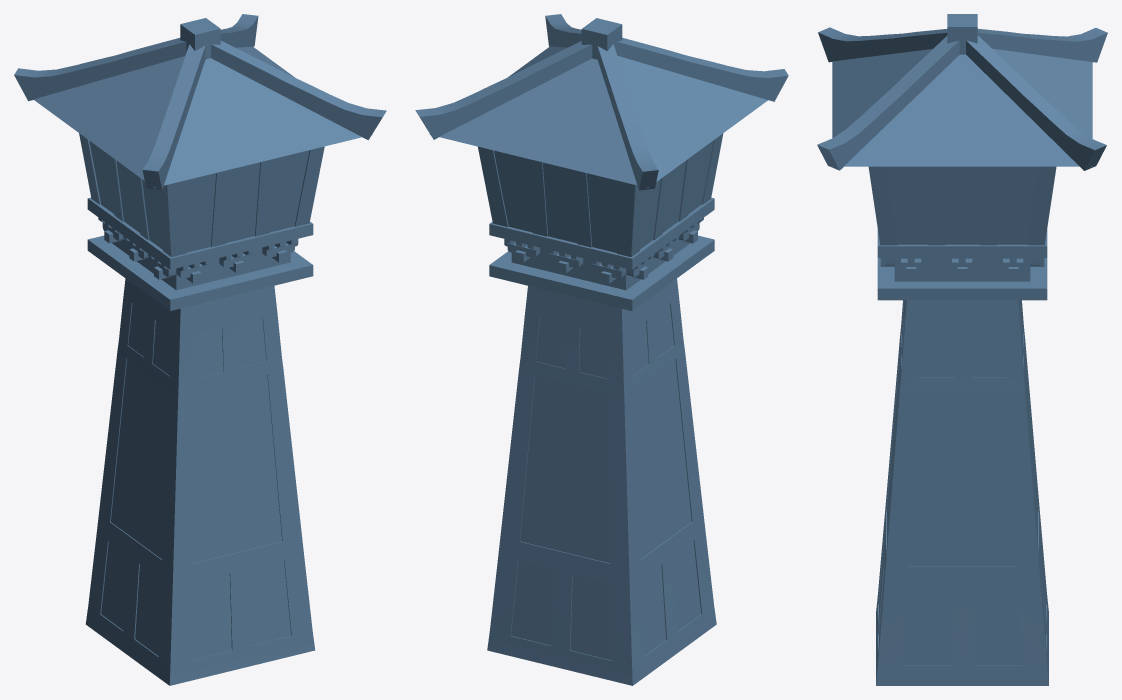
Rendered from aaaaaa.fbx.
3 renders of one model, left to right at view 1: azimuth 30°, elevation 25°; view 2: azimuth 150°, elevation 25°; view 3: azimuth 270°, elevation 25°, orthographic. The views are drawn at different scales.
Parts seen in each view (by area): view 1: pCube19; view 2: pCube19; view 3: pCube19.
Part boxes in pixels (<box>): pCube19: <box>14,14,386,685</box>; pCube19: <box>415,14,788,685</box>; pCube19: <box>817,14,1107,685</box>.
Bounding box in the file's own units: 3.42 × 8.17 × 3.42.
